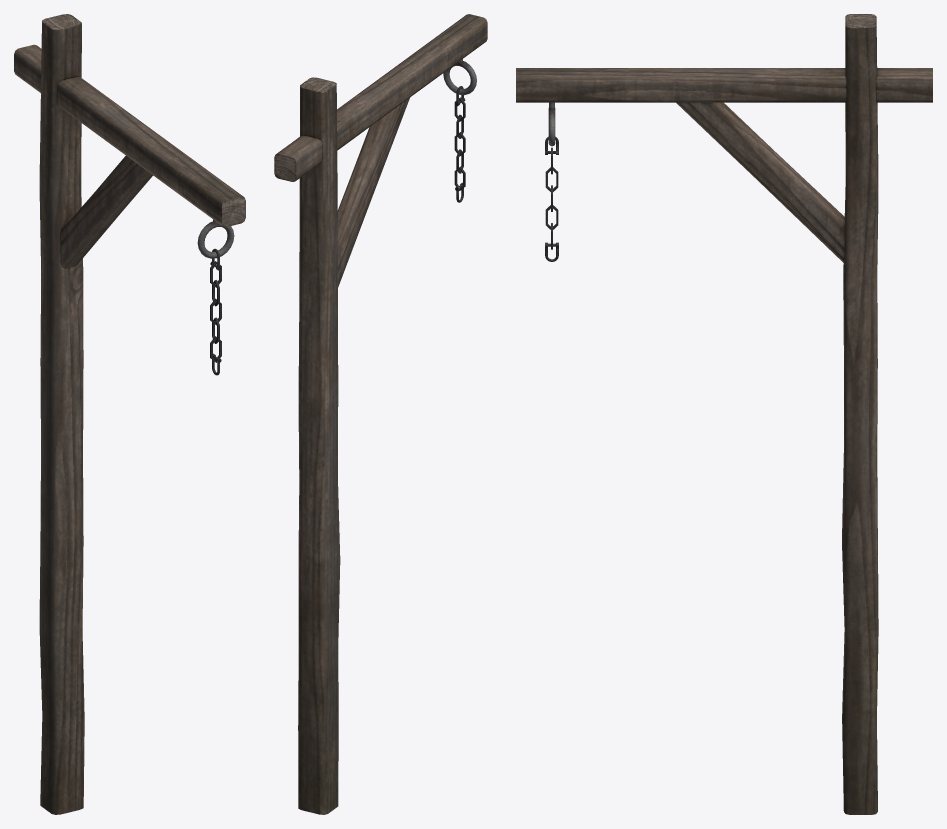
The model's file is pole_02.fbx.
The picture shows the model from 3 angles, left to right: view 1: azimuth 30°, elevation 25°; view 2: azimuth 150°, elevation 25°; view 3: azimuth 270°, elevation 25°; orthographic projection. The views are drawn at different scales.
Visible parts, largest first — view 1: pole_02; view 2: pole_02; view 3: pole_02.
Part boxes in pixels (bbox=[...]): pole_02: bbox=[14, 14, 245, 814]; pole_02: bbox=[274, 14, 487, 814]; pole_02: bbox=[516, 14, 932, 814].
Bounding box in the file's own units: 32.56 × 681 × 327.
